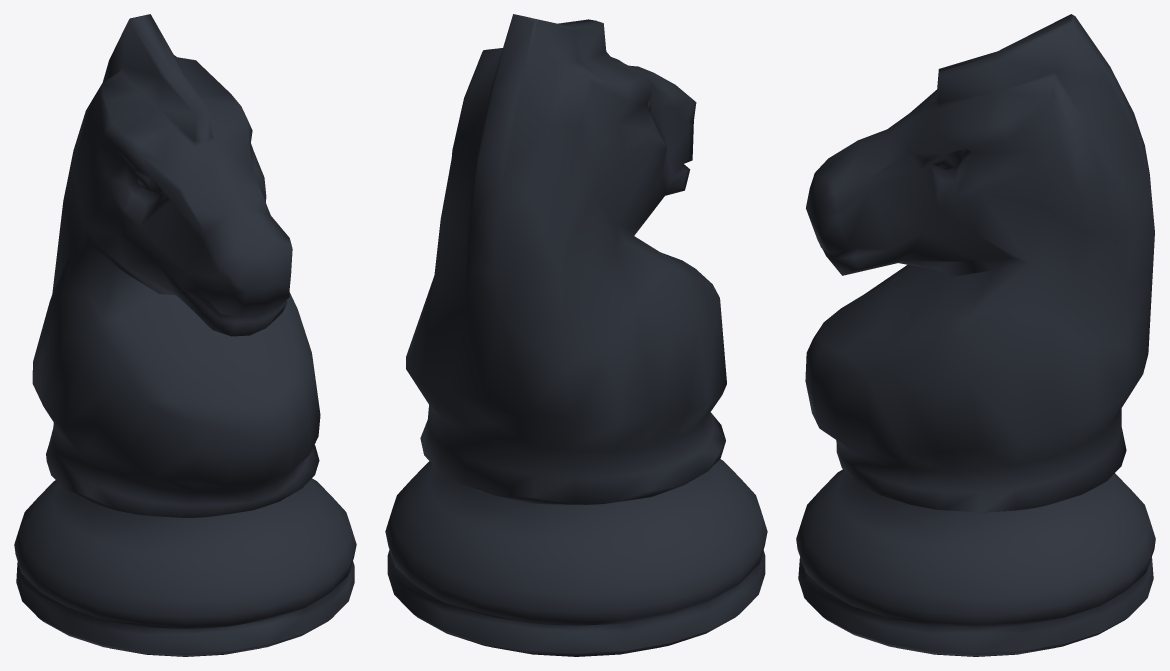
File: xadrez_cavalo_preto_pacote.glb
3 views of the same model, side by side, from view 1: azimuth 30°, elevation 25°; view 2: azimuth 150°, elevation 25°; view 3: azimuth 270°, elevation 25° (orthographic). The views are drawn at different scales.
Parts seen in each view (by area): view 1: xadrez_cavalo_preto_pacote; view 2: xadrez_cavalo_preto_pacote; view 3: xadrez_cavalo_preto_pacote.
Boxes of the visible parts, x1,y1,x2,y2 form: xadrez_cavalo_preto_pacote: [14, 14, 356, 656]; xadrez_cavalo_preto_pacote: [385, 14, 767, 656]; xadrez_cavalo_preto_pacote: [796, 14, 1155, 656].
Bounding box in the file's own units: 0.0368 × 0.0644 × 0.0368.
Materials: 1 (1 with a texture image).
